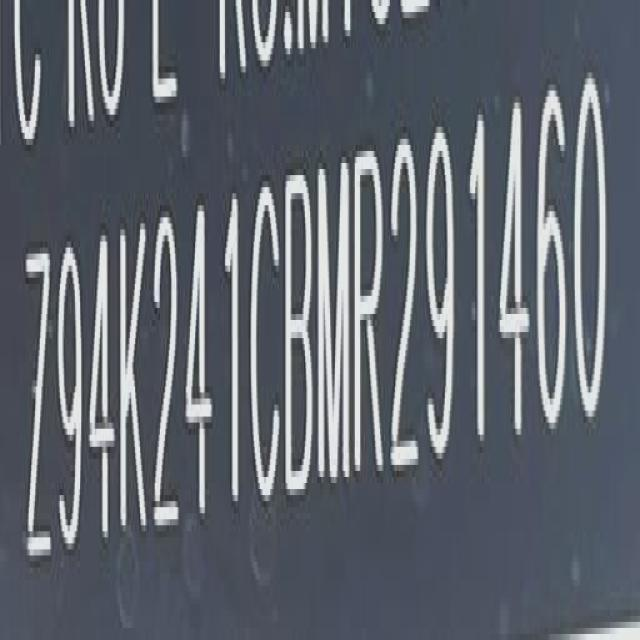0: (575, 76, 609, 432)
1: (463, 110, 487, 464), (222, 191, 244, 520)
2: (392, 138, 422, 481), (151, 207, 180, 540)
4: (498, 96, 533, 449), (187, 196, 215, 530), (91, 231, 117, 554)
6: (538, 81, 571, 437)
9: (427, 123, 458, 470), (56, 242, 84, 564)
B: (286, 167, 317, 503)
C: (250, 182, 282, 510)
K: (119, 223, 149, 547)
M: (318, 154, 350, 494)
R: (352, 148, 387, 486)
Z: (23, 240, 51, 580)
